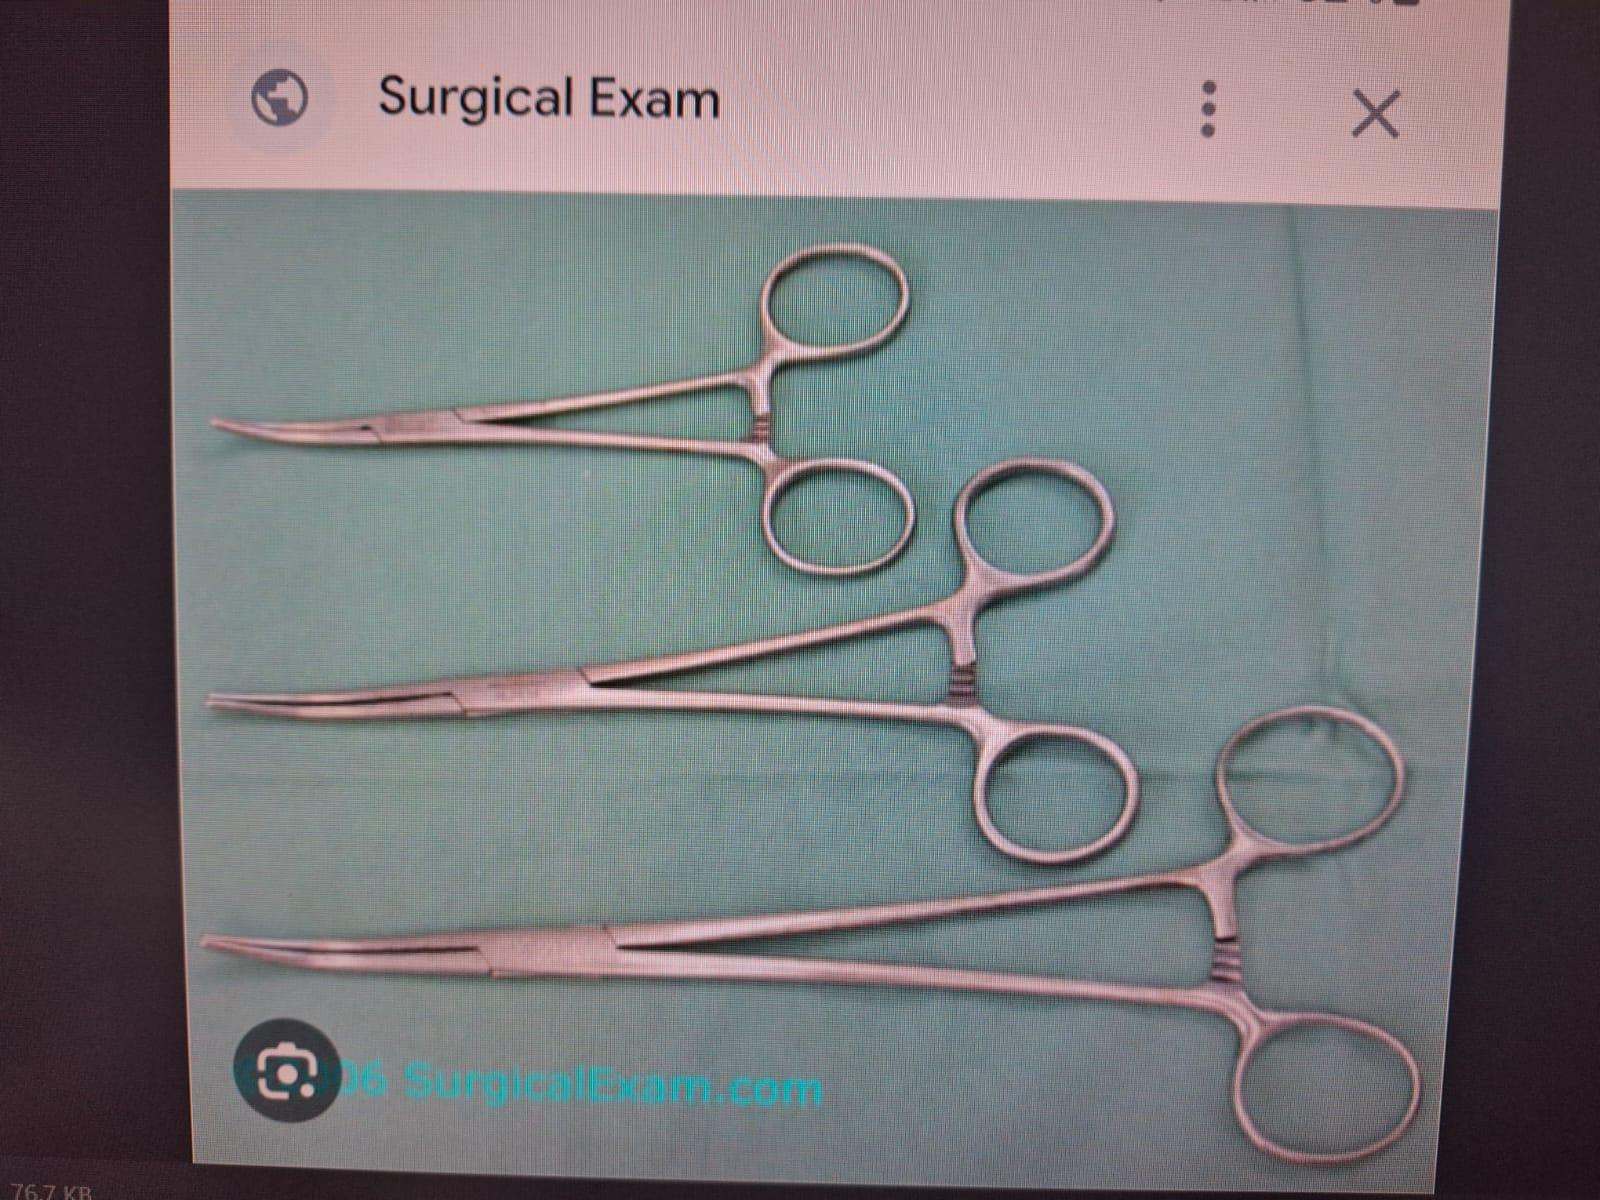Artery Forceps: (204, 710, 1432, 1176), (192, 450, 1142, 882), (194, 210, 924, 586)
